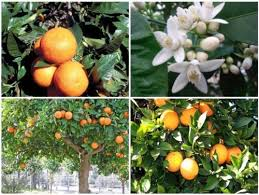orange: (55, 62, 93, 95), (42, 29, 80, 59), (30, 60, 58, 86), (161, 150, 182, 172), (178, 107, 202, 126), (181, 157, 199, 179), (209, 142, 228, 162), (159, 111, 180, 129)
